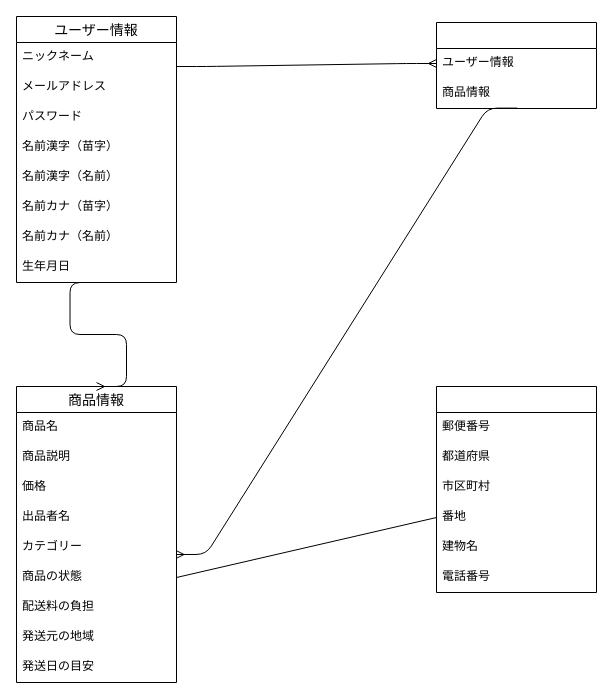
Some shapes in this 613 by 699 pixel diagram are drawn without their labels. Each missing label, with the box of its shape:
発送先情報: (436, 386, 596, 592)
購入記録: (436, 22, 596, 108)
